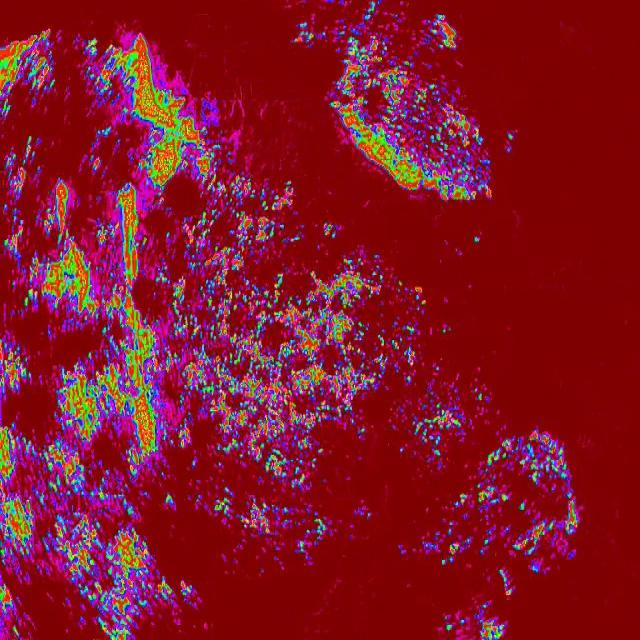fire: (0, 24, 148, 640), (147, 249, 392, 532), (334, 14, 496, 200), (438, 430, 580, 564), (148, 172, 300, 250), (146, 50, 216, 170), (404, 387, 492, 462), (392, 284, 428, 385), (148, 564, 198, 622), (441, 609, 508, 640)
